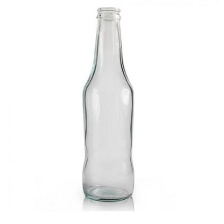bottle: (80, 5, 135, 205)
